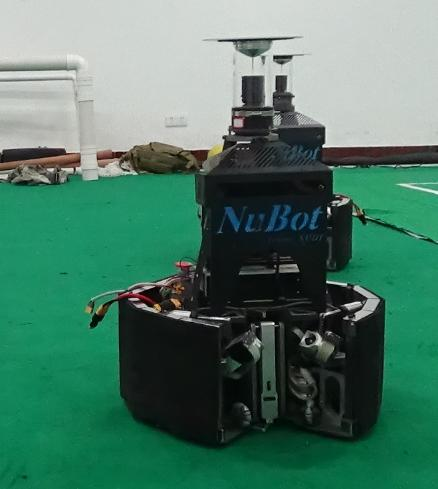robot: (111, 30, 388, 454)
